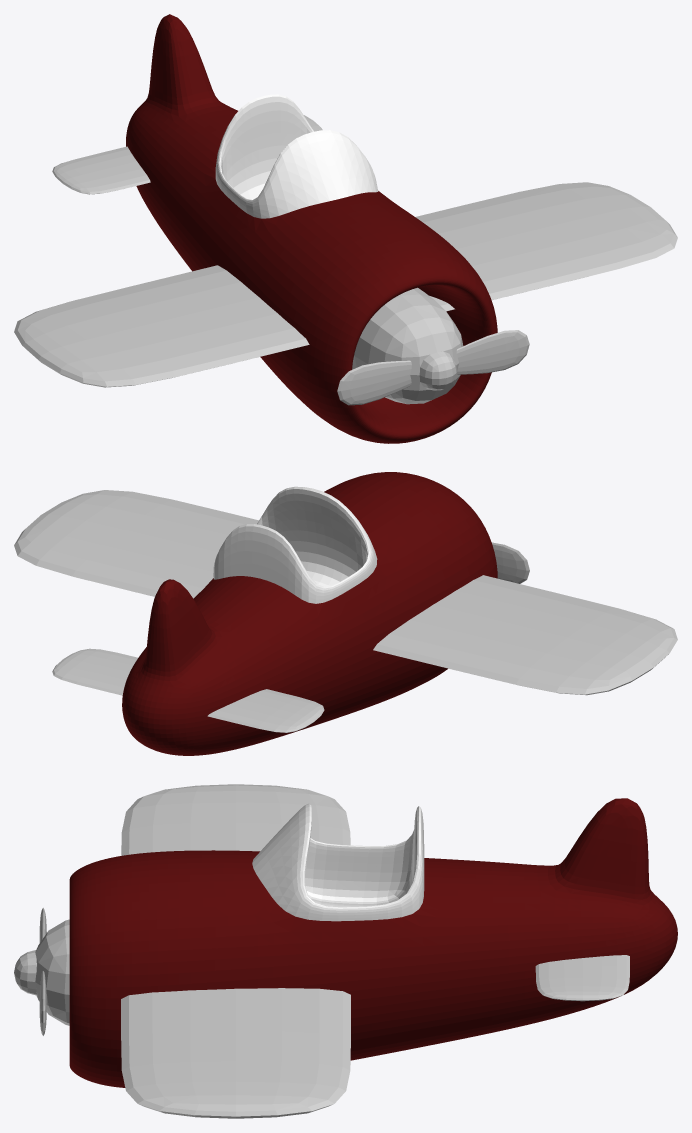
Rendered from enemy.obj.
The picture shows the model from 3 angles, top to bottom: view 1: azimuth 30°, elevation 25°; view 2: azimuth 150°, elevation 25°; view 3: azimuth 270°, elevation 25°; orthographic projection. The views are drawn at different scales.
Parts seen in each view (by area): view 1: Cube; view 2: Cube; view 3: Cube.
Part boxes in pixels (<box>): Cube: <box>14,14,677,443</box>; Cube: <box>14,472,677,755</box>; Cube: <box>14,784,677,1118</box>.
Size of the model in its own units: 5.51 by 2.17 by 4.68.
